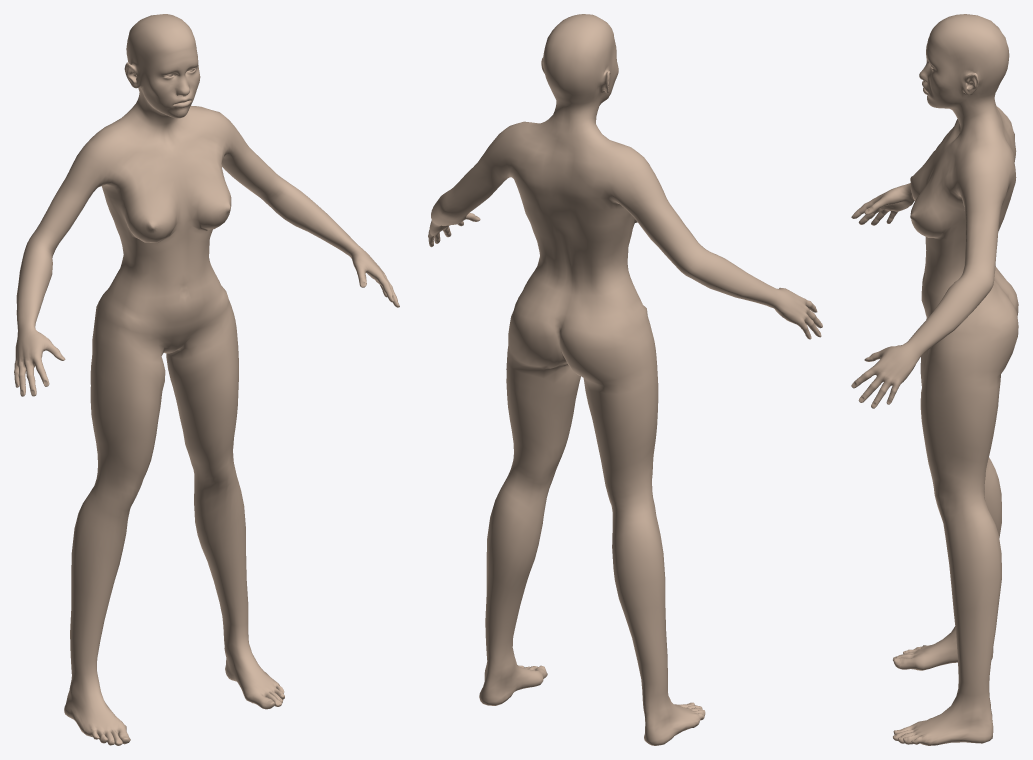
Rendered from woman.glb.
3 renders of one model, left to right at view 1: azimuth 30°, elevation 25°; view 2: azimuth 150°, elevation 25°; view 3: azimuth 270°, elevation 25°, orthographic. The views are drawn at different scales.
Visible parts, largest first — view 1: womanBody; view 2: womanBody; view 3: womanBody.
Part boxes in pixels (x1,y1,x2,y2): womanBody: (14,14,399,745); womanBody: (428,14,822,745); womanBody: (851,14,1018,745).
Bounding box in the file's own units: 9.52 × 16.53 × 3.65.
